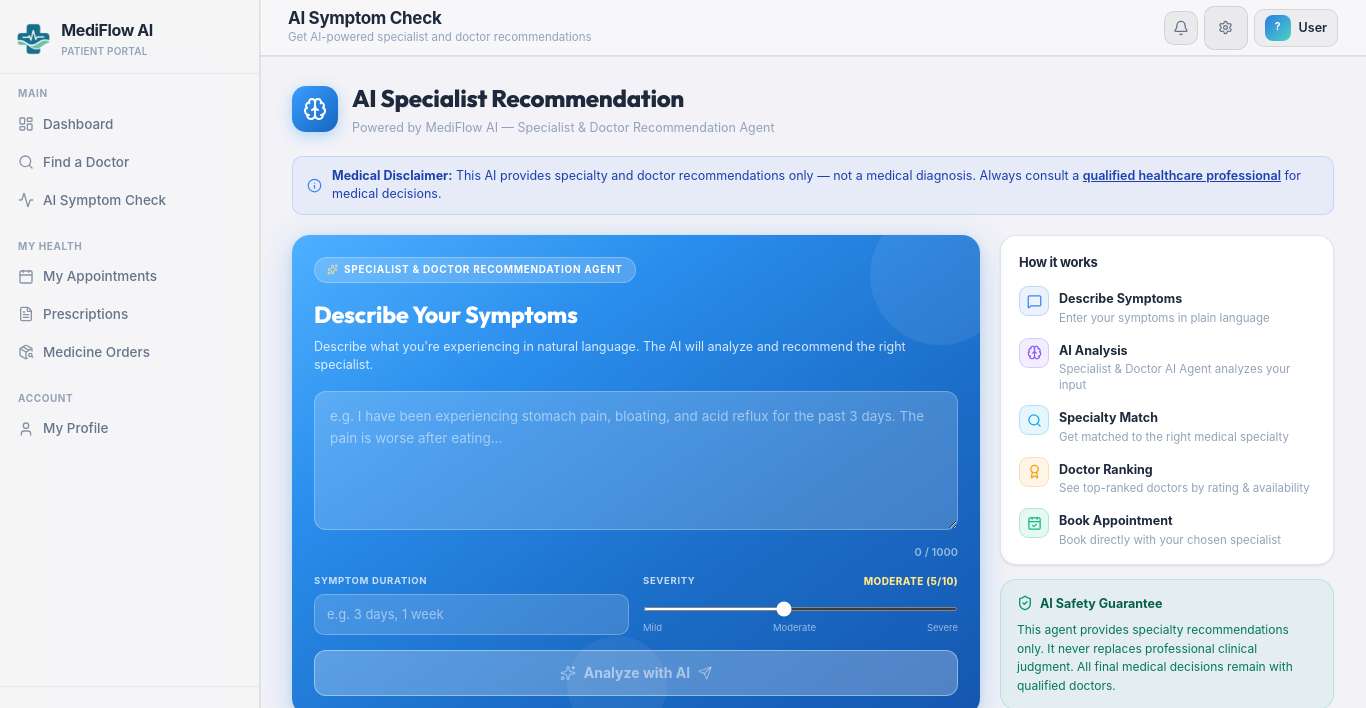
Test: Patient Portal Validations › SymptomAIPage Validations › disables Analyze button when symptoms input has fewer than 10 characters
This screenshot has width=1366, height=708.
Expected: the button "Analyze with AI" is disabled, [314,650,958,696]
Replace the text in the text box with placeholder "e.g. I have been experiencing" with "Chest pain" at (636, 461), box [314,391,958,530]
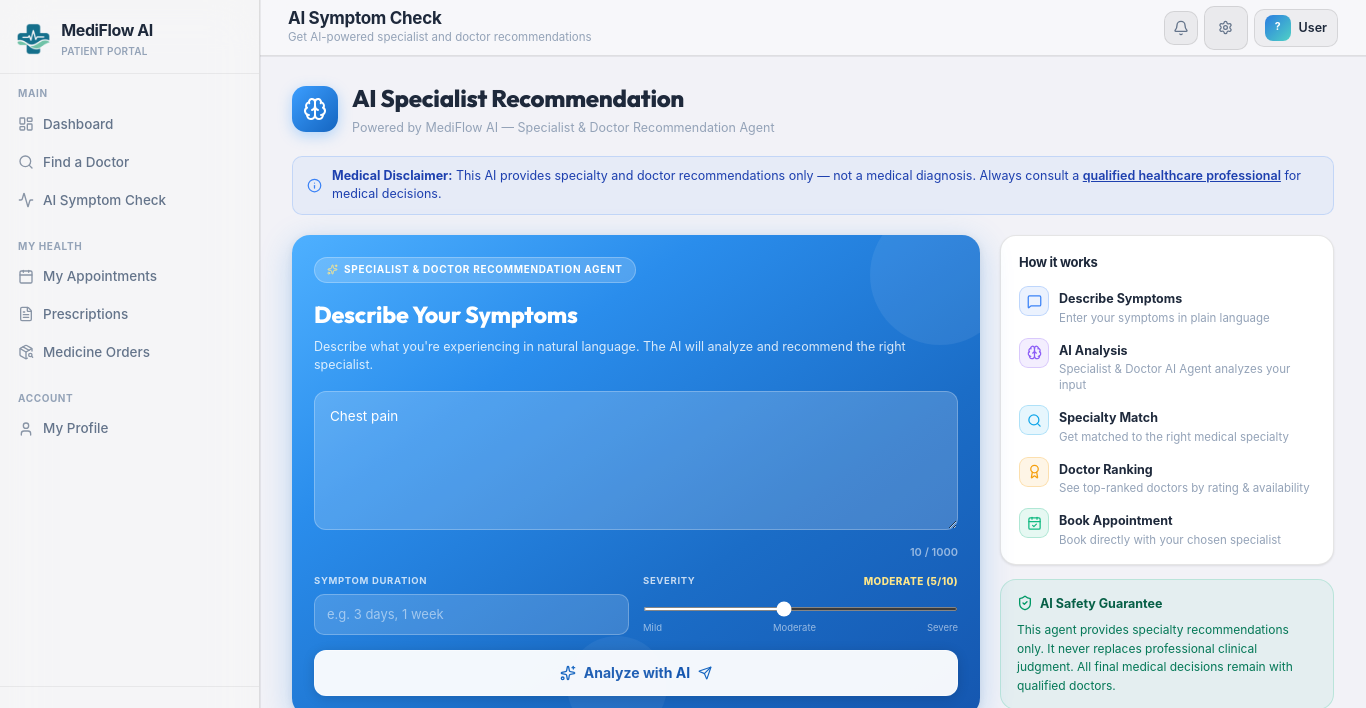
Now the button "Analyze with AI" is enabled, box [314,650,958,696]
Replace the text in the text box with placeholder "e.g. I have been experiencing" with "Short" at (636, 461), box [314,391,958,530]
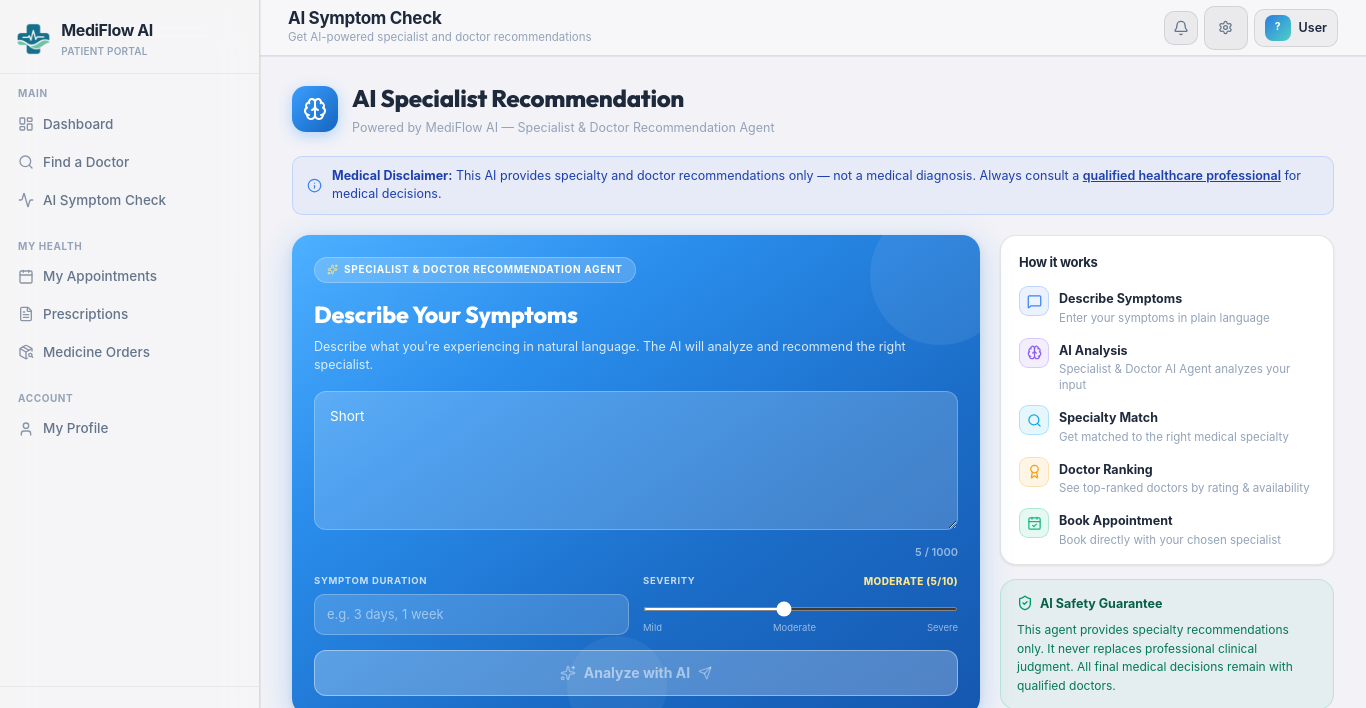
Now the button "Analyze with AI" is disabled, box [314,650,958,696]
Now the text "5 / 1000" is shown, box [915,545,958,559]
